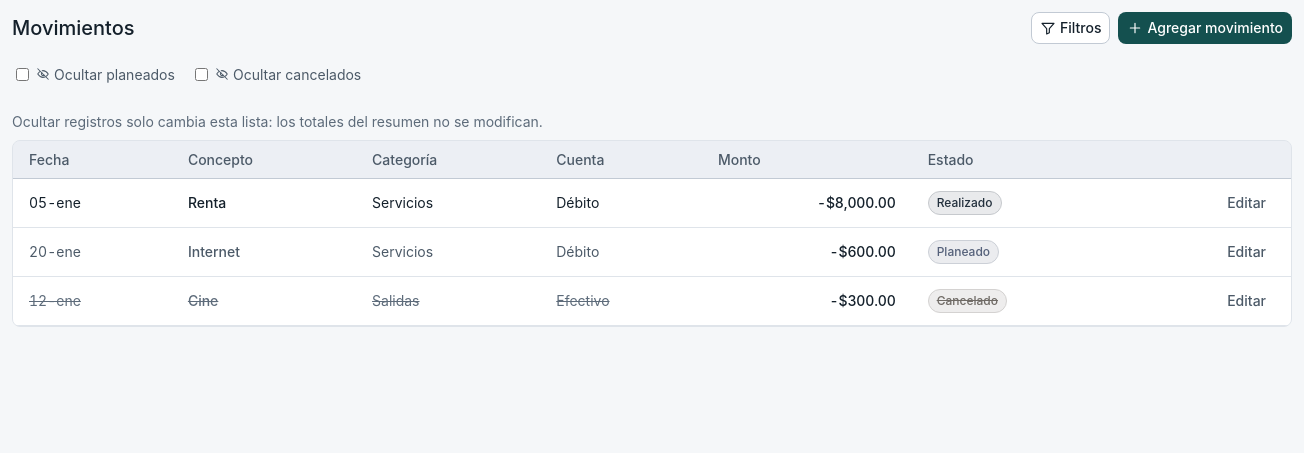
Test case: MovementTable › filters by account and reports the active filter as a chip
Click the button "Filtros" at (1071, 28), box [1031,12,1110,44]
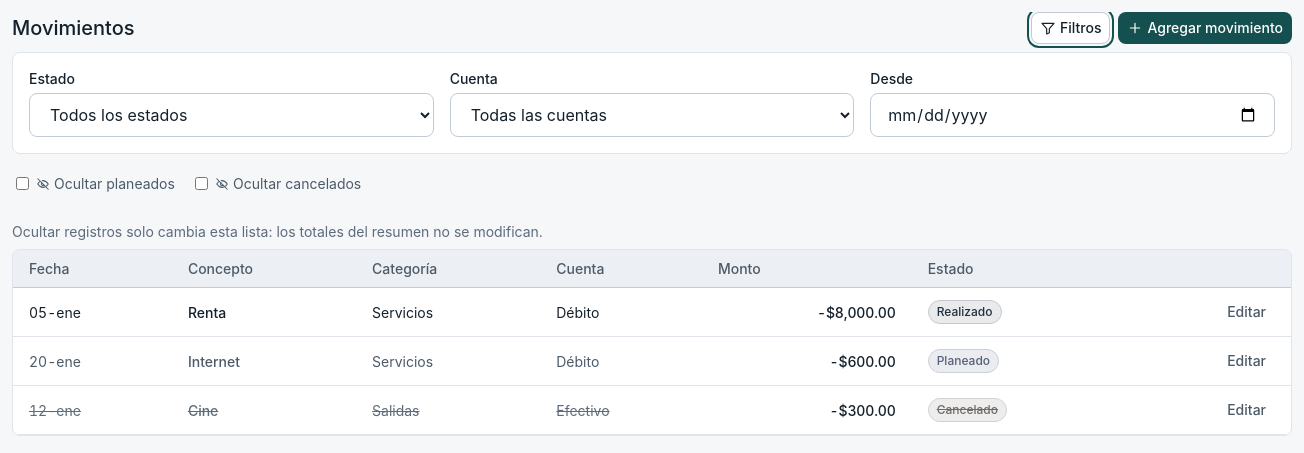
Select "Efectivo" in the dropdown labelled "Cuenta" at (652, 115), box [450,93,854,137]
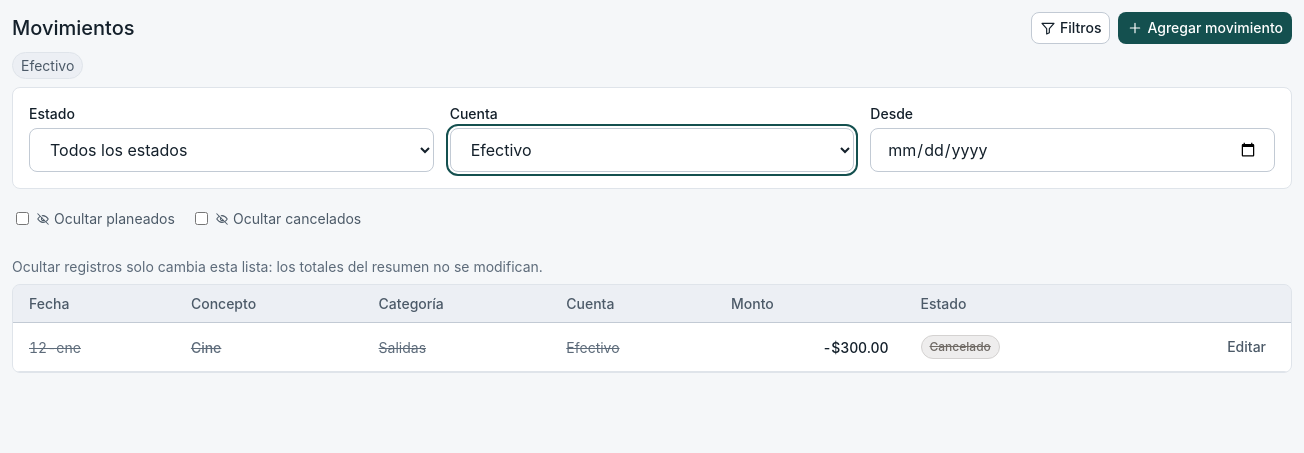
expect the text "Cine" is shown: met, box [191,339,221,356]
expect the text "Renta" is gone: met
expect the list item reads "Efectivo": met, box [21,57,74,74]
